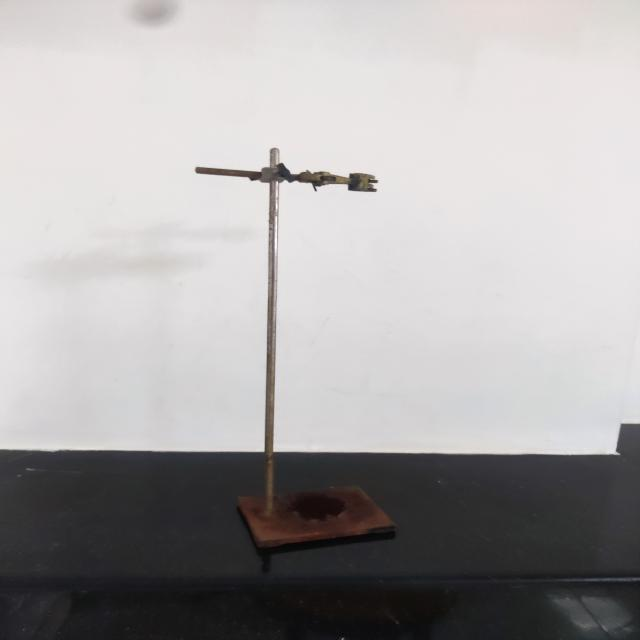Burette_Stands: (179, 128, 431, 558)
